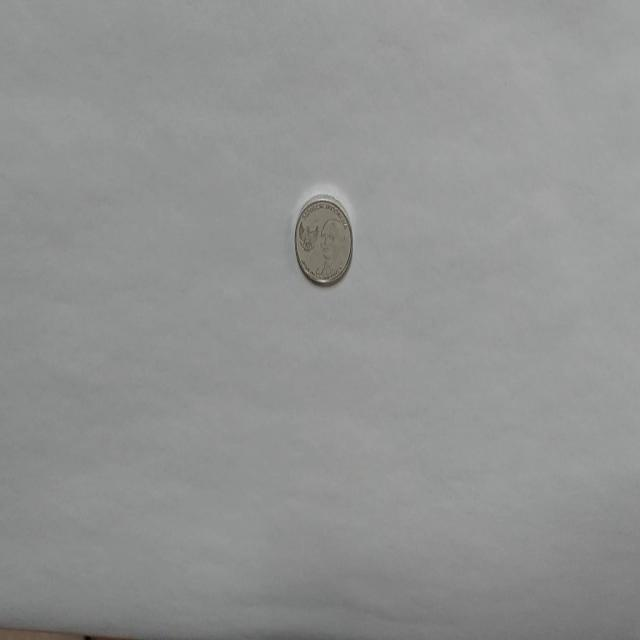lima ratus rupiah: (293, 192, 353, 286)
